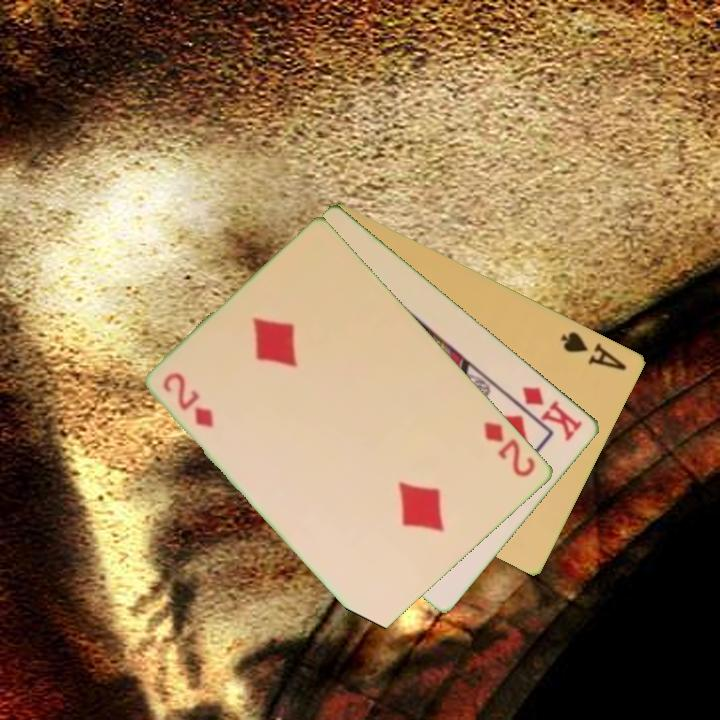2d: (481, 418, 539, 481), (159, 369, 217, 431)
As: (557, 327, 630, 374)
Kd: (518, 382, 586, 444)
